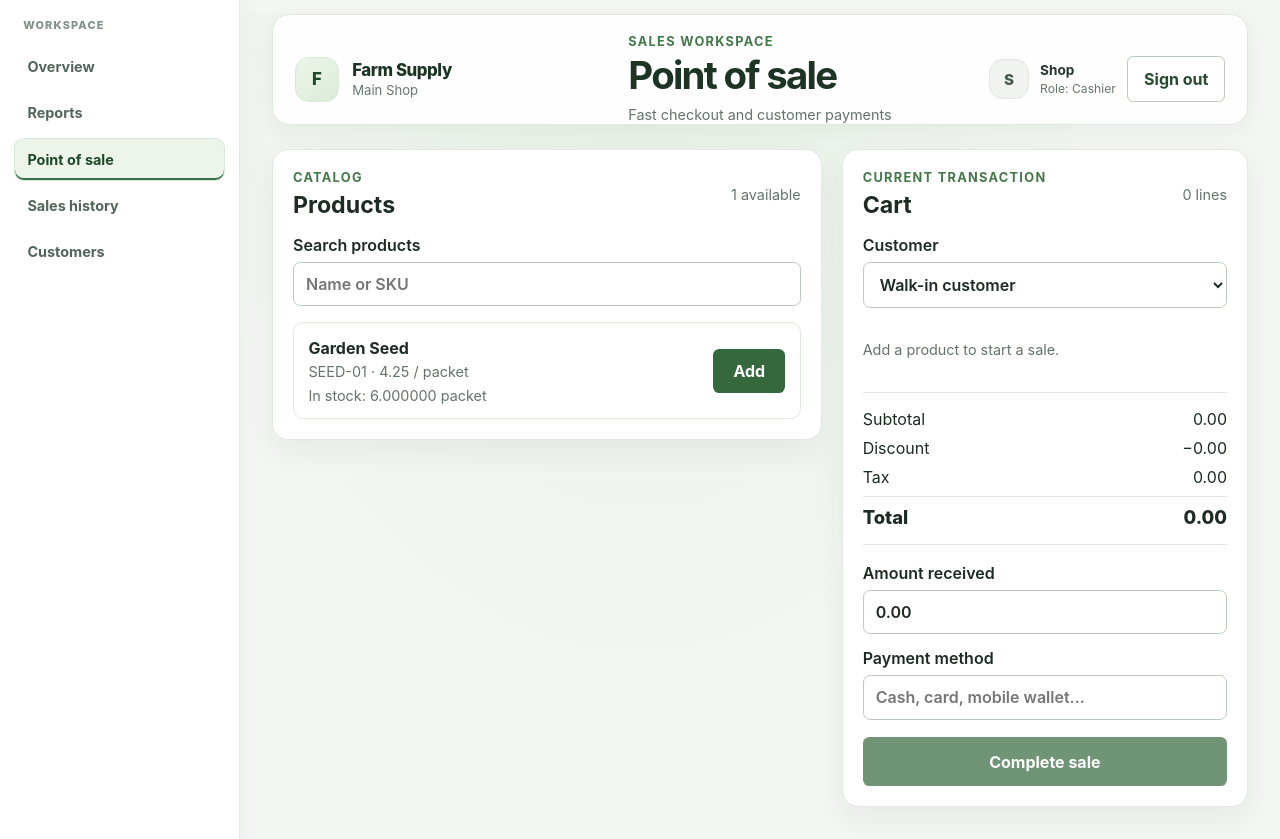
Test: POS checkout screen › creates and checks out a walk-in sale from the branch catalog
Expected: the heading "Products" is shown, [293,191,395,219]
Step 1. Click the button "Add" → (749, 371), box [713,349,785,393]
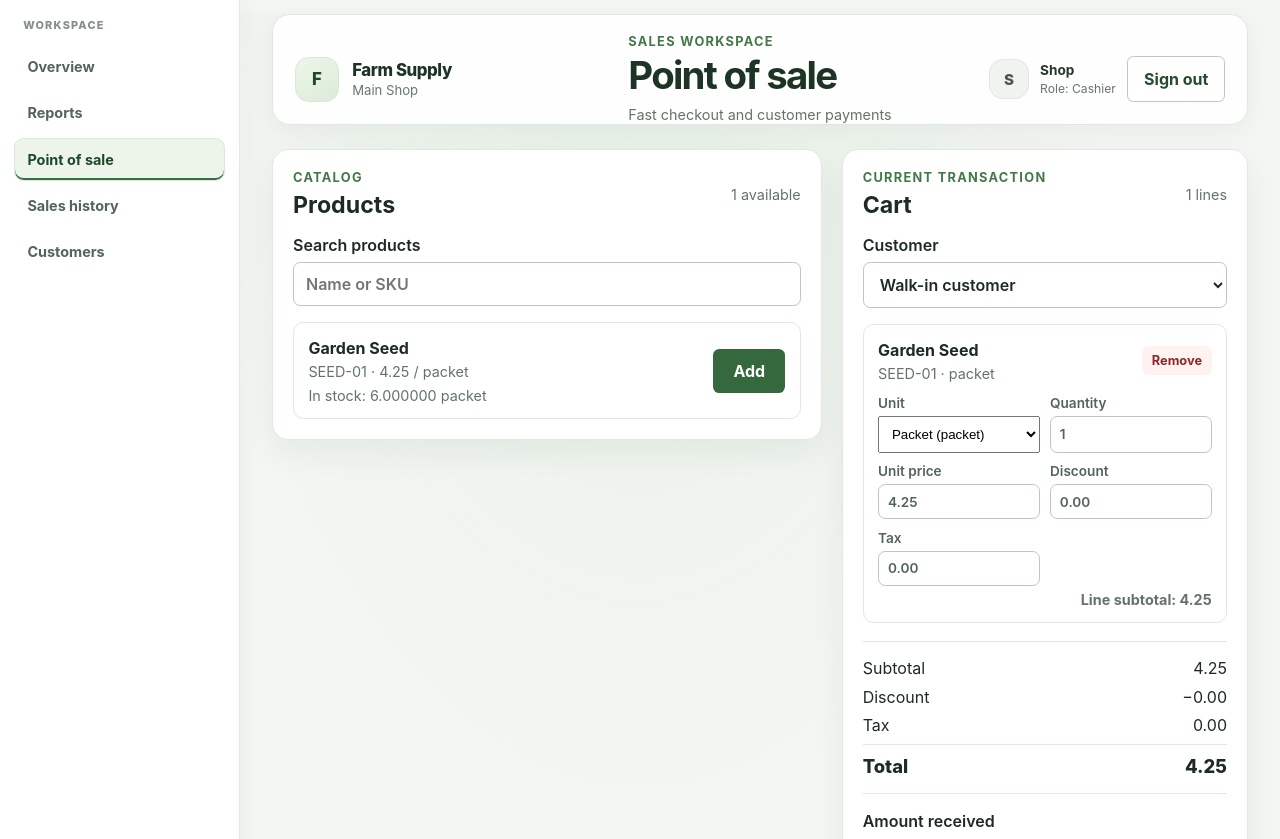
Step 2. Replace the text in the number field named "Quantity for Garden Seed" with "2" → (1131, 434), box [1050,416,1212,452]
(page scrolled)
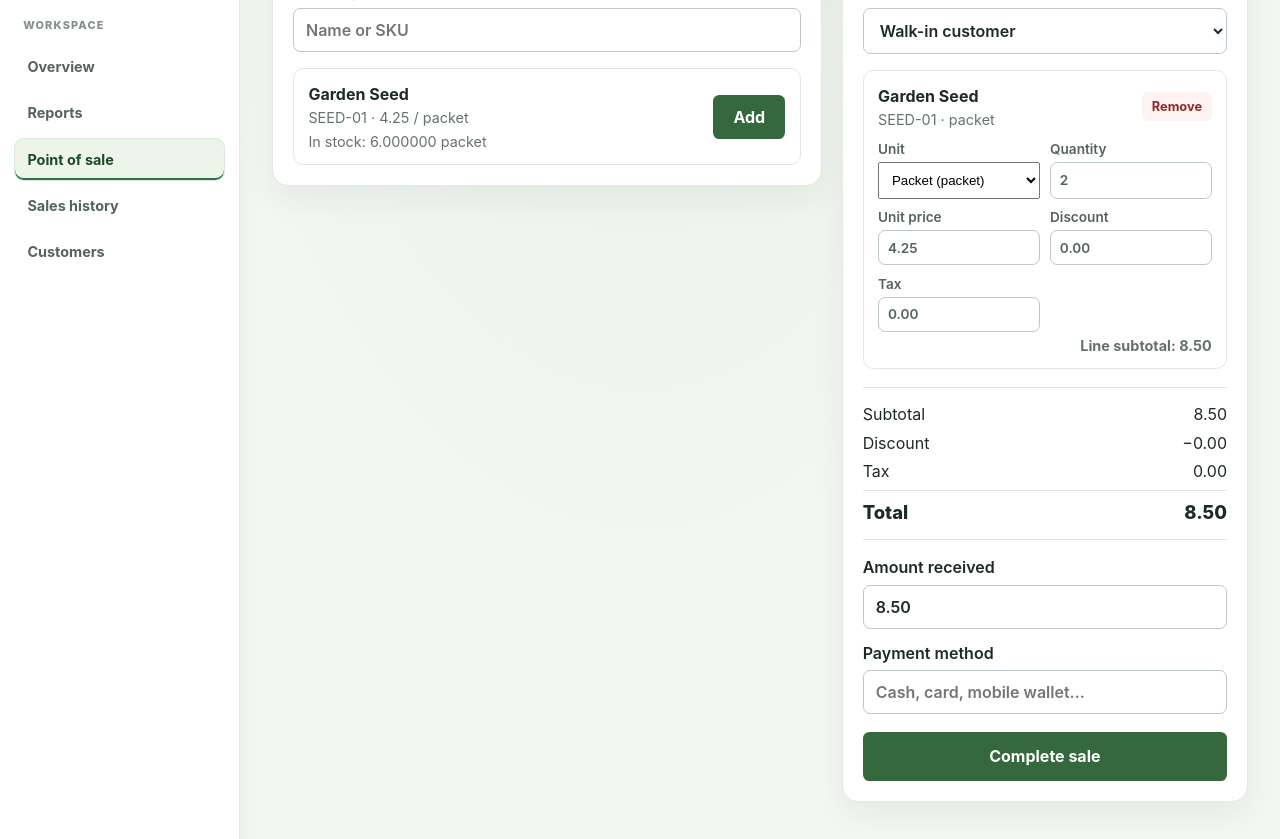
Now the 1st text "8.50" is shown, box [1194,404,1227,424]
Step 3. Type "Cash" into the field labelled "Payment method" → (1045, 692), box [863,670,1227,714]
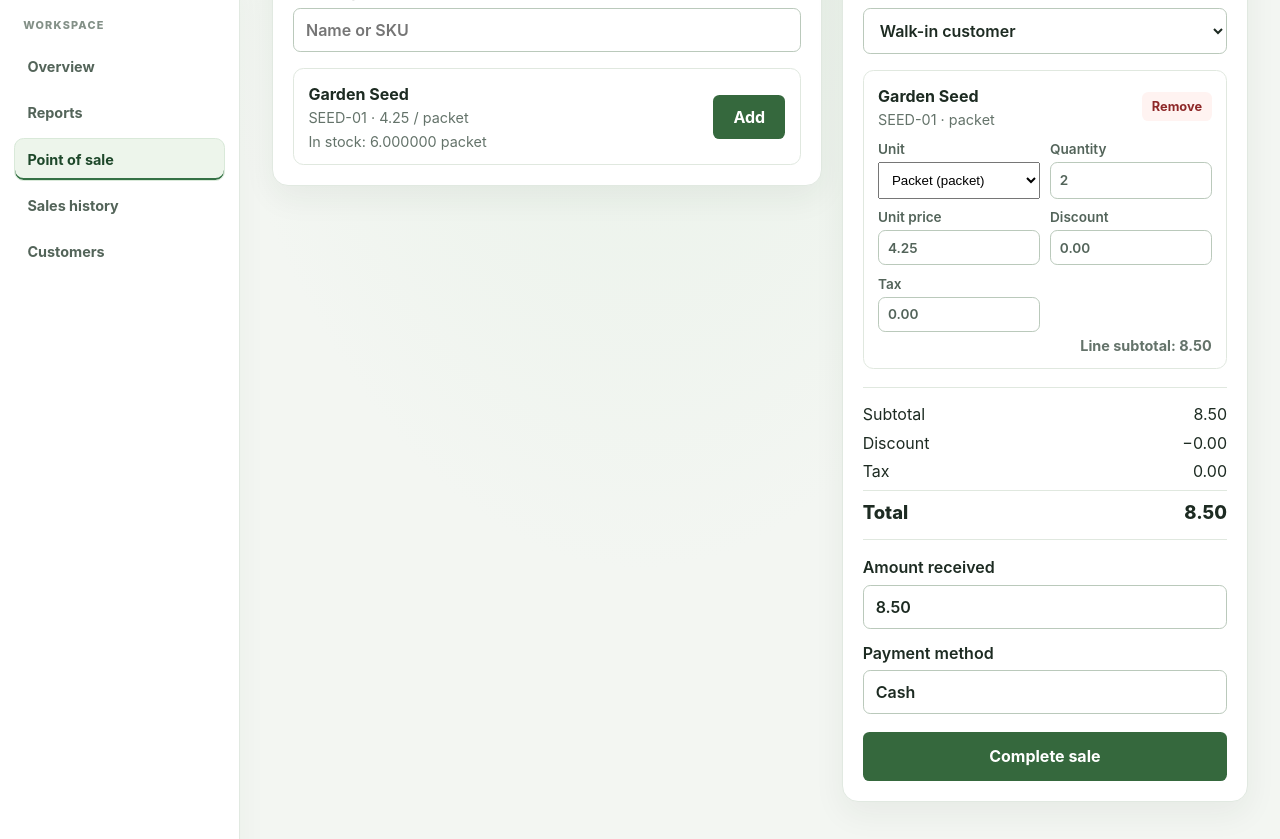
Step 4. Click the button "Complete sale" → (1045, 756), box [863,732,1227,781]
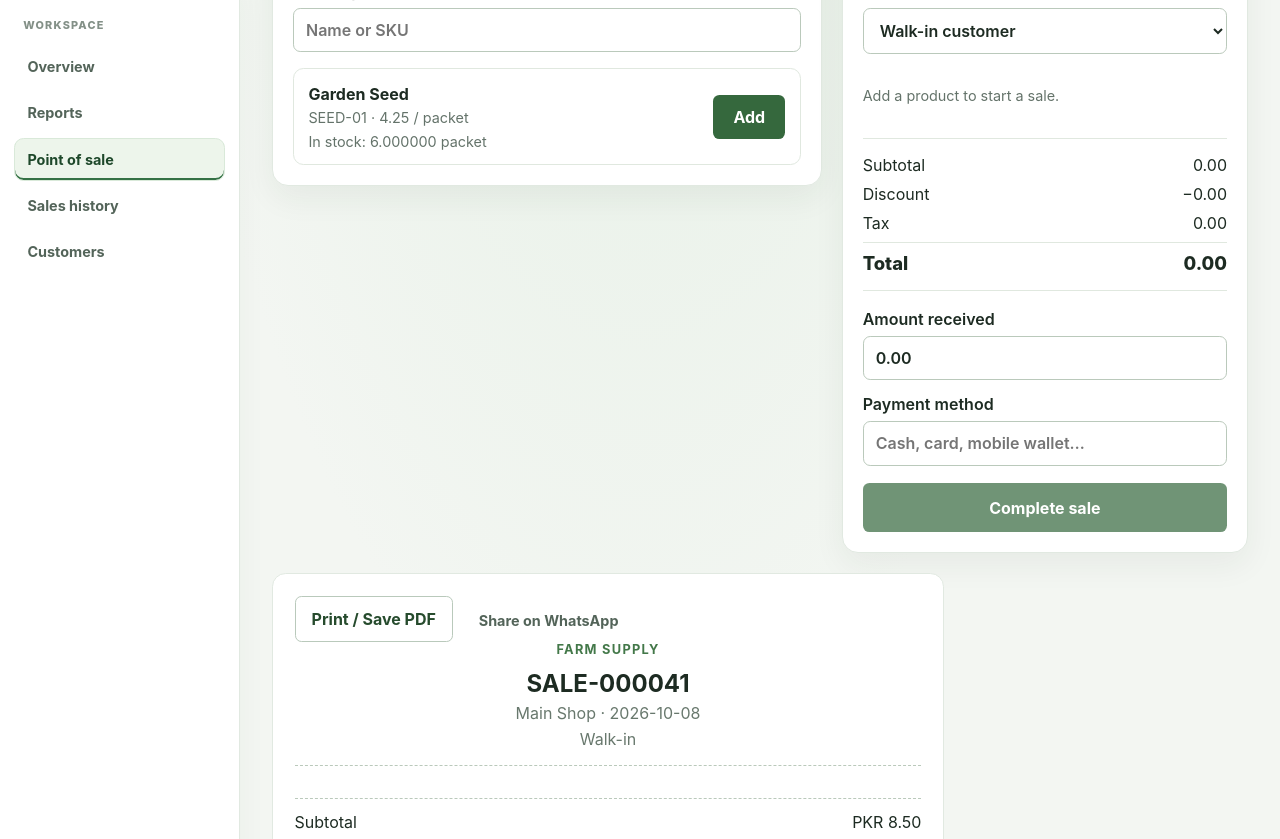
Now the heading "SALE-000041" is shown, box [526,669,690,698]
